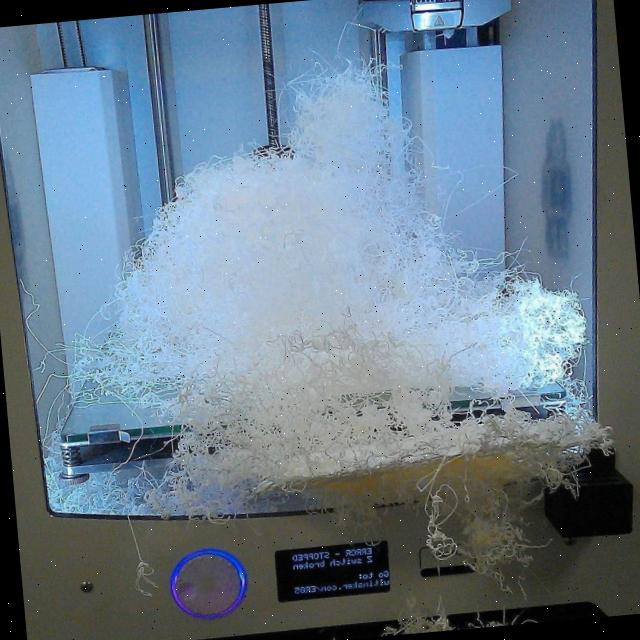spaghetti: (25, 44, 600, 540)
